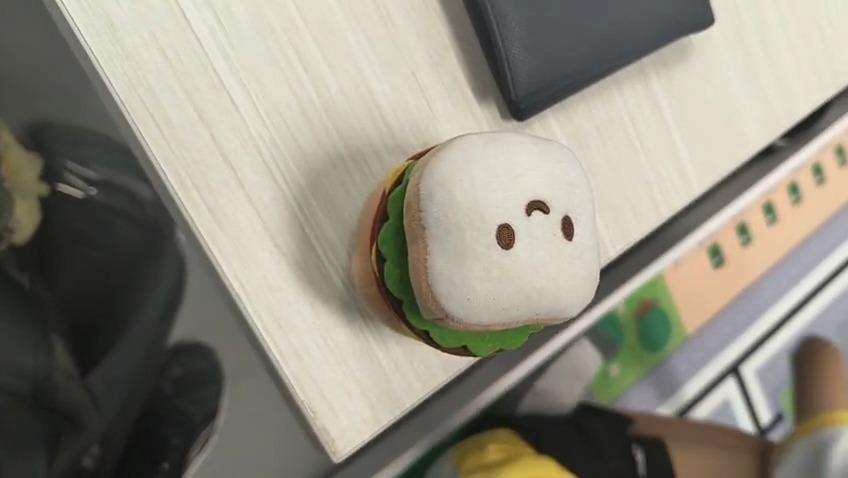objects: (350, 131, 601, 360)
